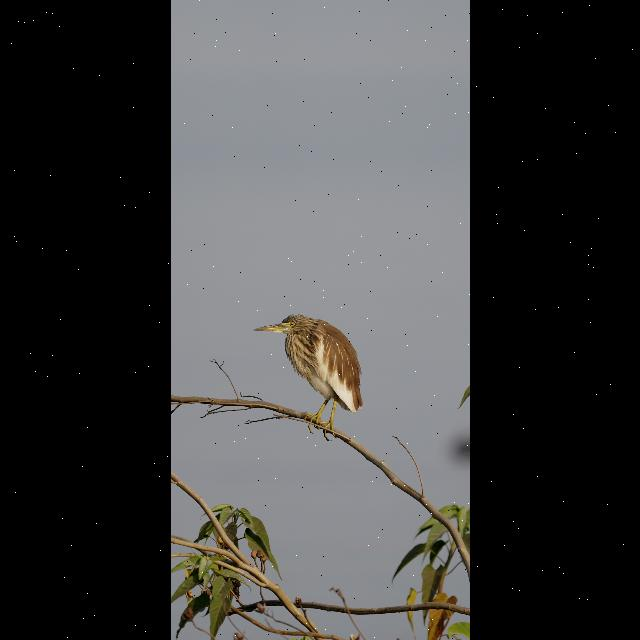heron: (256, 313, 374, 433)
